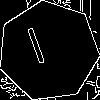I: (23, 26, 52, 74)
